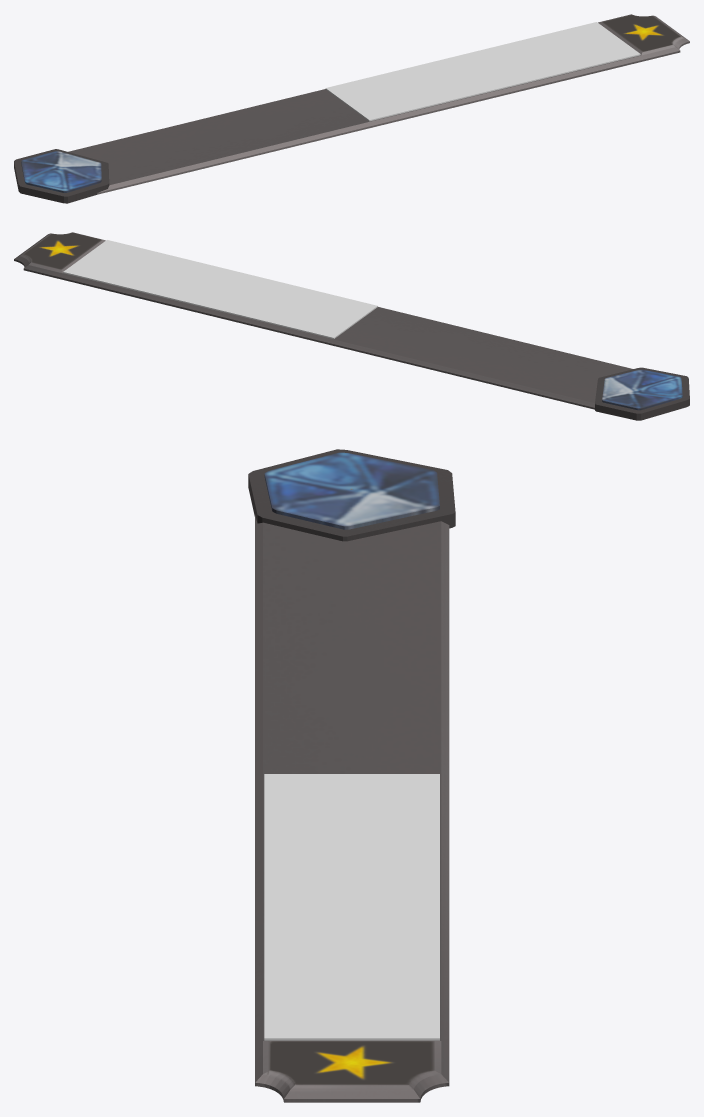
The model's file is CardinDeck.glb.
The picture shows the model from 3 angles, top to bottom: view 1: azimuth 30°, elevation 25°; view 2: azimuth 150°, elevation 25°; view 3: azimuth 270°, elevation 25°; orthographic projection. The views are drawn at different scales.
Parts seen in each view (by area): view 1: Label, cardImage, Legendary; view 2: Label, cardImage, Legendary; view 3: Label, cardImage, Legendary.
Part boxes in pixels (box(x1,y1,x2,y2)): Label: box(14, 16, 689, 203); cardImage: box(325, 22, 640, 121); Legendary: box(598, 14, 683, 55); Label: box(14, 233, 689, 420); cardImage: box(63, 240, 377, 338); Legendary: box(20, 232, 105, 273); Label: box(248, 449, 455, 1102); cardImage: box(264, 774, 439, 1040); Legendary: box(263, 1041, 441, 1089).
Size of the model in its own units: 5.52 by 0.0694 by 0.7554.
1 material, 1 textured.
